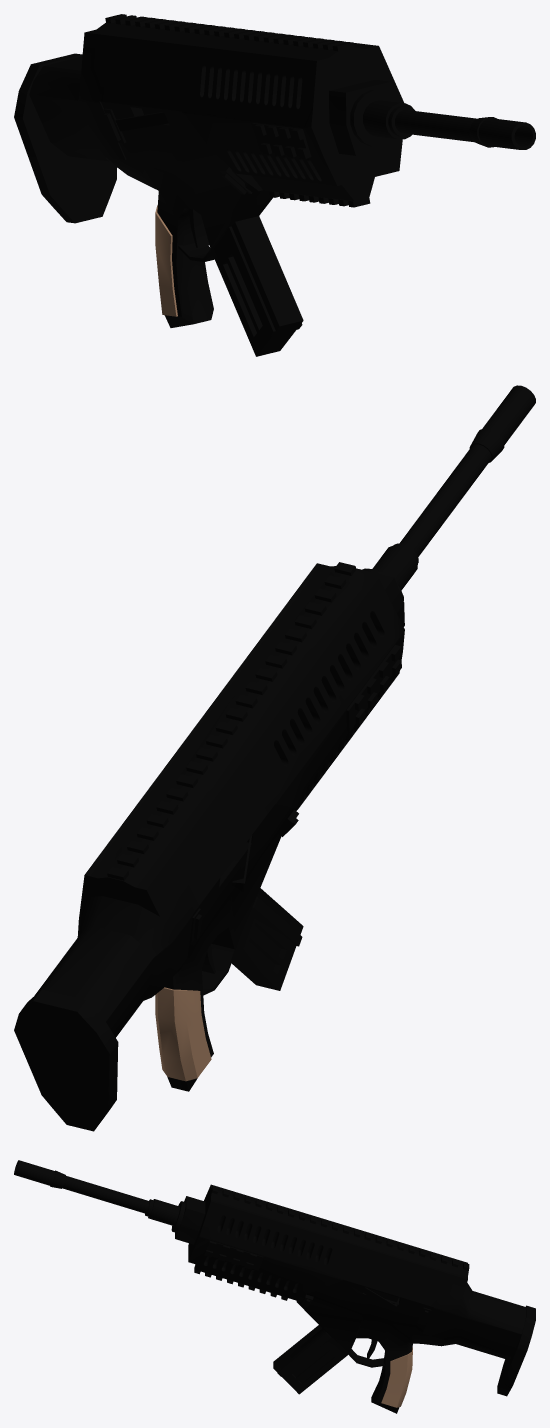
Rendered from gun2.fbx.
The picture shows the model from 3 angles, top to bottom: view 1: azimuth 30°, elevation 25°; view 2: azimuth 150°, elevation 25°; view 3: azimuth 270°, elevation 25°; orthographic projection. The views are drawn at different scales.
Parts seen in each view (by area): view 1: gun_1; view 2: gun_1; view 3: gun_1.
Boxes of the visible parts, x1,y1,x2,y2 form: gun_1: (14,14,535,356); gun_1: (14,385,535,1131); gun_1: (14,1160,535,1413).
Size of the model in its own units: 71.5 by 239 by 452.
